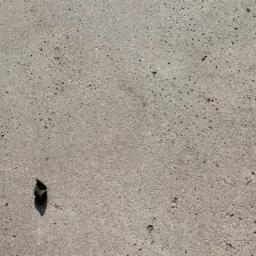FOD: (33, 177, 52, 219)
